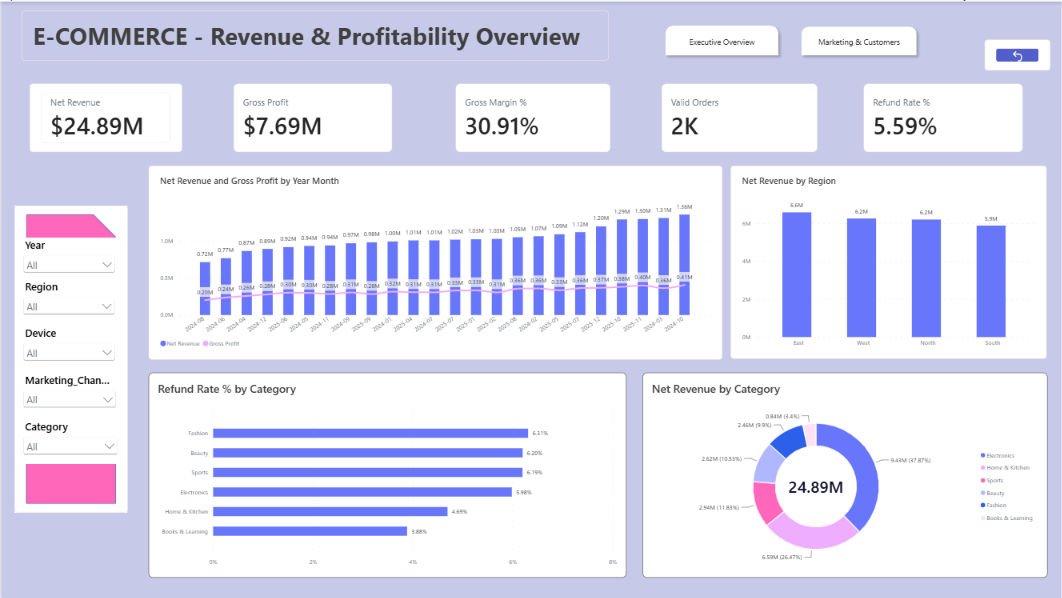

This screenshot's page, from the dashboard's own definition file:
{"tool":"powerbi","page":{"name":"Executive Commerce","canvas":[1920,1080],"ordinal":0},"visuals":[{"type":"textbox","box":[36.7,15.6,1062.5,90],"z":0},{"type":"shape","box":[24.3,370,204.5,555.6],"z":0,"group":"g1"},{"type":"lineClusteredColumnComboChart","fields":{"Y":["_Measures.Net Revenue"],"Y2":["_Measures.Gross Profit"],"Category":["Dim_Date.Year Month"]},"box":[266,296.8,1038.7,351.1],"z":1000},{"type":"slicer","fields":{"Values":["Dim_Date.Date.Variation.Date Hierarchy.Year"]},"box":[36.8,428.3,176,68],"z":1000,"group":"g2"},{"type":"columnChart","title":"Net Revenue by Region","fields":{"Category":["EcomCustomerTable.Region"],"Y":["_Measures.Net Revenue"]},"box":[1319.2,296.8,571.9,349.3],"z":2000},{"type":"barChart","fields":{"Y":["_Measures.Refund Rate %"],"Category":["EcomProductTable.Category"]},"box":[266,671.4,865,371],"z":3000},{"type":"donutChart","title":"Net Revenue by Category","fields":{"Category":["EcomProductTable.Category"],"Y":["_Measures.Net Revenue"]},"box":[1160,671.4,732.9,371],"z":4000},{"type":"group","id":"g1","title":"Group 2","box":[24.3,370,204.5,555.6],"z":5000},{"type":"cardVisual","fields":{"Data":["_Measures.Net Revenue"]},"box":[50.7,148.5,276,124],"z":6000},{"type":"cardVisual","fields":{"Data":["_Measures.Gross Profit"]},"box":[420.6,148.1,287.7,124.9],"z":7000},{"type":"slicer","fields":{"Values":["EcomCustomerTable.Region"]},"box":[36,503.4,175.6,77.8],"z":7000,"group":"g2"},{"type":"cardVisual","fields":{"Data":["_Measures.Gross Margin %"]},"box":[820.7,148.5,280,124],"z":8000},{"type":"slicer","fields":{"Values":["EcomOrdersTable.Device"]},"box":[36,588.3,176,78],"z":8000,"group":"g2"},{"type":"cardVisual","fields":{"Data":["_Measures.Valid Orders"]},"box":[1194.7,148.5,282,124],"z":9000},{"type":"slicer","fields":{"Values":["EcomOrdersTable.Marketing_Channel"]},"box":[36,673.4,177.8,77.8],"z":9000,"group":"g2"},{"type":"cardVisual","fields":{"Data":["_Measures.Refund Rate %"]},"box":[1560.7,148.5,288,124],"z":10000},{"type":"slicer","fields":{"Values":["EcomProductTable.Category"]},"box":[36,758.3,180,78],"z":10000,"group":"g2"},{"type":"group","id":"g2","title":"Group 1","box":[36,428.3,180,408],"z":11000,"group":"g1"},{"type":"actionButton","box":[1438,36,226,70],"z":12000,"group":"g3"},{"type":"actionButton","box":[1192,34,222,72],"z":13000,"group":"g3"},{"type":"actionButton","box":[1798,70,100,40],"z":13000},{"type":"group","id":"g3","title":"Group 3","box":[1192,34,472,72],"z":13001}]}

Visuals, with their boxes in screenshot pixels (x1, y1, x2, y2), scaled from the page's 1920x1080 canvas onto the 1062x598 screenshot:
textbox: x1=20, y1=9, x2=608, y2=58
shape: x1=13, y1=205, x2=127, y2=513
lineClusteredColumnComboChart - _Measures.Net Revenue x _Measures.Gross Profit: x1=147, y1=164, x2=722, y2=359
slicer - Dim_Date.Date.Variation.Date Hierarchy.Year: x1=20, y1=237, x2=118, y2=275
"Net Revenue by Region" columnChart: x1=730, y1=164, x2=1046, y2=358
barChart - _Measures.Refund Rate % x EcomProductTable.Category: x1=147, y1=372, x2=626, y2=577
"Net Revenue by Category" donutChart: x1=642, y1=372, x2=1047, y2=577
"Group 2" group: x1=13, y1=205, x2=127, y2=513
cardVisual - _Measures.Net Revenue: x1=28, y1=82, x2=181, y2=151
cardVisual - _Measures.Gross Profit: x1=233, y1=82, x2=392, y2=151
slicer - EcomCustomerTable.Region: x1=20, y1=279, x2=117, y2=322
cardVisual - _Measures.Gross Margin %: x1=454, y1=82, x2=609, y2=151
slicer - EcomOrdersTable.Device: x1=20, y1=326, x2=117, y2=369
cardVisual - _Measures.Valid Orders: x1=661, y1=82, x2=817, y2=151
slicer - EcomOrdersTable.Marketing_Channel: x1=20, y1=373, x2=118, y2=416
cardVisual - _Measures.Refund Rate %: x1=863, y1=82, x2=1023, y2=151
slicer - EcomProductTable.Category: x1=20, y1=420, x2=119, y2=463
"Group 1" group: x1=20, y1=237, x2=119, y2=463
actionButton: x1=795, y1=20, x2=920, y2=59
actionButton: x1=659, y1=19, x2=782, y2=59
actionButton: x1=995, y1=39, x2=1050, y2=61
"Group 3" group: x1=659, y1=19, x2=920, y2=59
